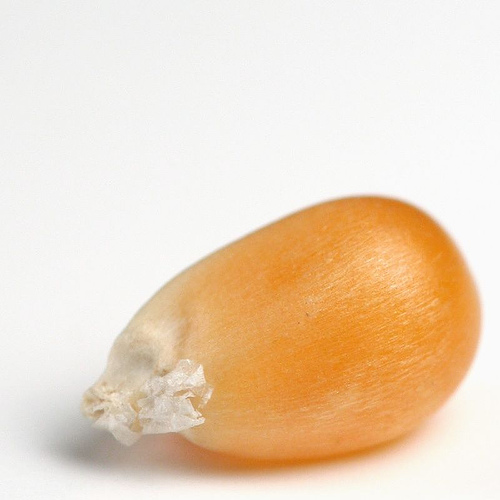corn: (78, 191, 488, 467)
